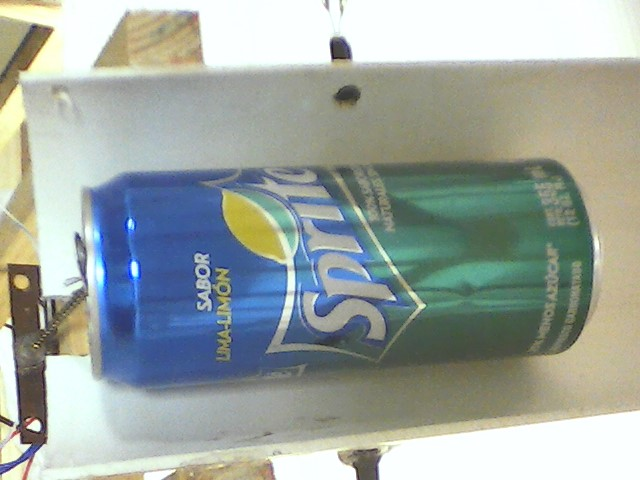lata: (78, 156, 605, 394)
